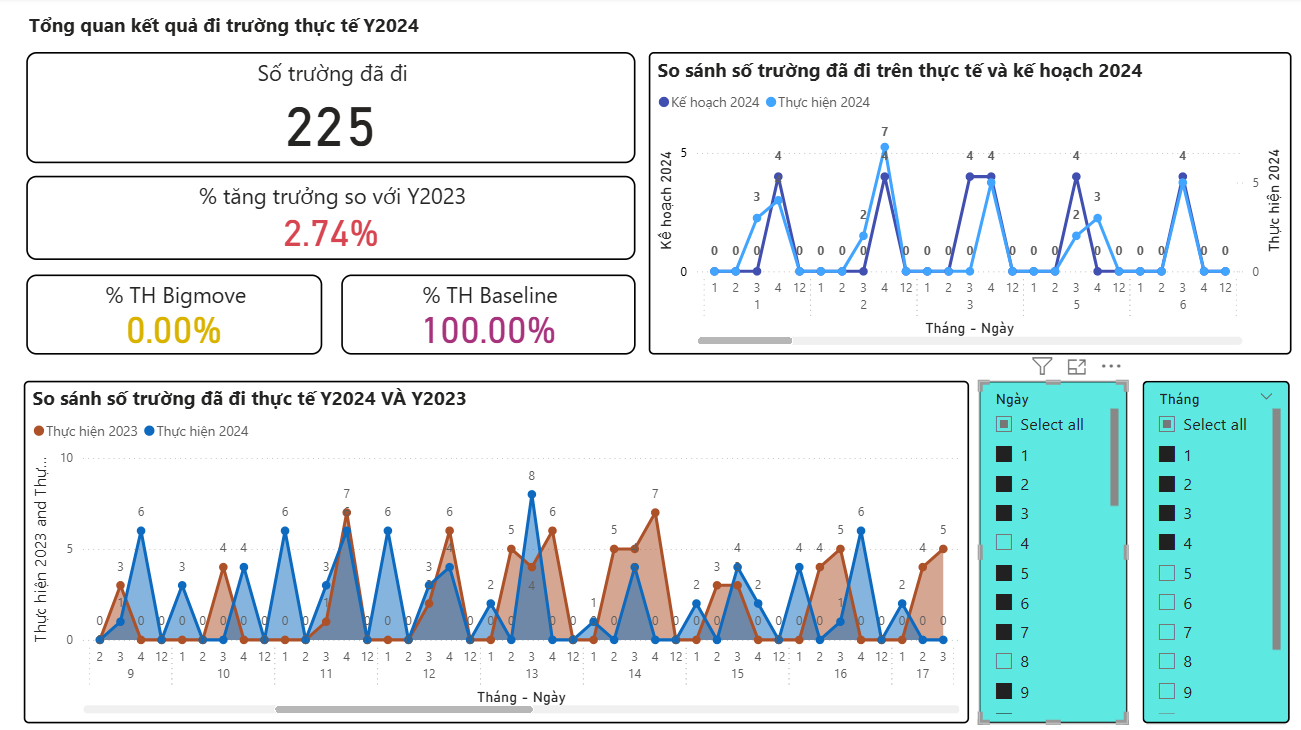

The dashboard page shown, as its layout file describes it:
{"tool":"powerbi","page":{"name":"SỐ TRƯỜNG (Theo ngày)","canvas":[1280,720],"ordinal":3},"visuals":[{"type":"slicer","fields":{"Values":["DATA_APP.DayNumber"]},"box":[962.6,375.6,145.4,335.2],"z":0},{"type":"slicer","fields":{"Values":["DATA_APP.MonthNumber"]},"box":[1122.8,375.6,144,335.2],"z":1000},{"type":"lineChart","title":"So sánh số trường đã đi trên thực tế và kế hoạch 2024","fields":{"Category":["DATA_APP.DayNumber","DATA_APP.MonthNumber"],"Y":["Sum(DATA_APP.SCH_DD_BL2024)"],"Y2":["Sum(DATA_APP.SCH_DD_TH2024)"]},"box":[639.5,53.6,628.7,296.3],"z":2000},{"type":"areaChart","title":"So sánh số trường đã đi thực tế Y2024 VÀ Y2023","fields":{"Category":["DATA_APP.DayNumber","DATA_APP.MonthNumber"],"Y":["Sum(DATA_APP.SCH_DD_TH2023)","Sum(DATA_APP.SCH_DD_TH2024)"]},"box":[28.3,375.6,924.9,335.2],"z":3000},{"type":"textbox","box":[28.1,9.8,539.3,44],"z":4000},{"type":"card","title":"% tăng trưởng so với Y2023","fields":{"Values":["DATA_APP.SoTruong%_Y2023_2024"]},"box":[31,175,596.4,82.1],"z":5000},{"type":"card","title":"Số trường đã đi","fields":{"Values":["DATA_APP.SCH_Total(Fixed)"]},"box":[31,53.8,596.4,109],"z":6000},{"type":"card","title":"% TH Bigmove","fields":{"Values":["DATA_APP.SCH%BigMove"]},"box":[31,271.9,289.4,78.1],"z":7000},{"type":"card","title":"% TH Baseline","fields":{"Values":["DATA_APP.SCH%BaseLine"]},"box":[339.3,271.9,288.1,78.1],"z":8000}]}

Visuals, with their boxes in screenshot pixels (x1, y1, x2, y2), scaled from the page's 1280x720 canvas onto the 1301x730 screenshot:
slicer - DATA_APP.DayNumber: 978/381/1126/721
slicer - DATA_APP.MonthNumber: 1141/381/1288/721
"So sánh số trường đã đi trên thực tế và kế hoạch 2024" lineChart: 650/54/1289/355
"So sánh số trường đã đi thực tế Y2024 VÀ Y2023" areaChart: 29/381/969/721
textbox: 29/10/577/55
"% tăng trưởng so với Y2023" card: 32/177/638/261
"Số trường đã đi" card: 32/55/638/165
"% TH Bigmove" card: 32/276/326/355
"% TH Baseline" card: 345/276/638/355
